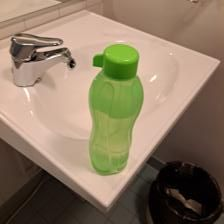bottle: (85, 43, 143, 177)
